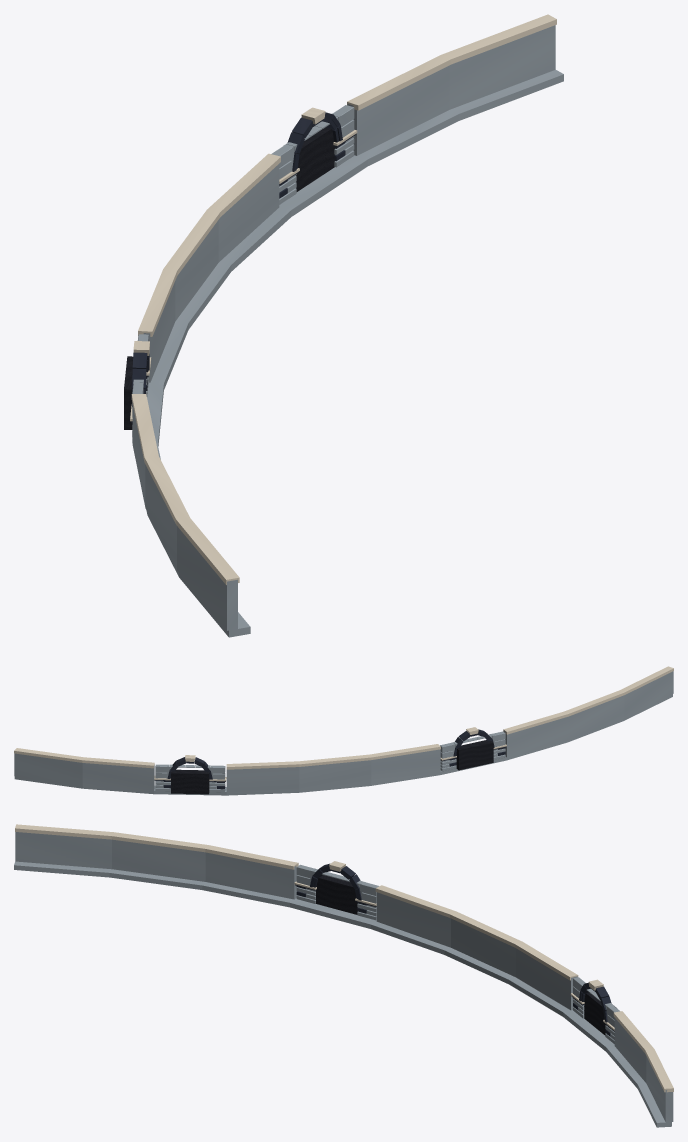
The model's file is COL_Vomitoria_Q3.glb.
3 views of the same model, one above another, from view 1: azimuth 30°, elevation 25°; view 2: azimuth 150°, elevation 25°; view 3: azimuth 270°, elevation 25° (orthographic). The views are drawn at different scales.
Parts seen in each view (by area): view 1: COL_Vomitoria_Q3; view 2: COL_Vomitoria_Q3; view 3: COL_Vomitoria_Q3.
Boxes of the visible parts, box(x1,y1,x2,y2) form: COL_Vomitoria_Q3: box(124, 14, 563, 637); COL_Vomitoria_Q3: box(14, 666, 673, 795); COL_Vomitoria_Q3: box(14, 824, 673, 1127).
Bounding box in the file's own units: 97.89 × 8.54 × 103.
4 materials, 4 textured.
